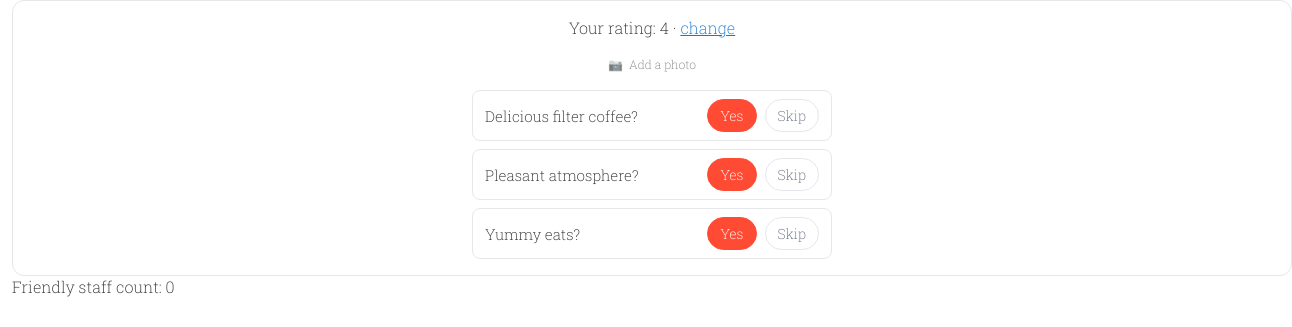
Test case: RateBlock › marks a Characteristic in "Your marks" from the zero baseline when characteristicCounts starts null
Click the button "Yes" next to "Yummy eats?" at (732, 234), box [707,217,756,250]
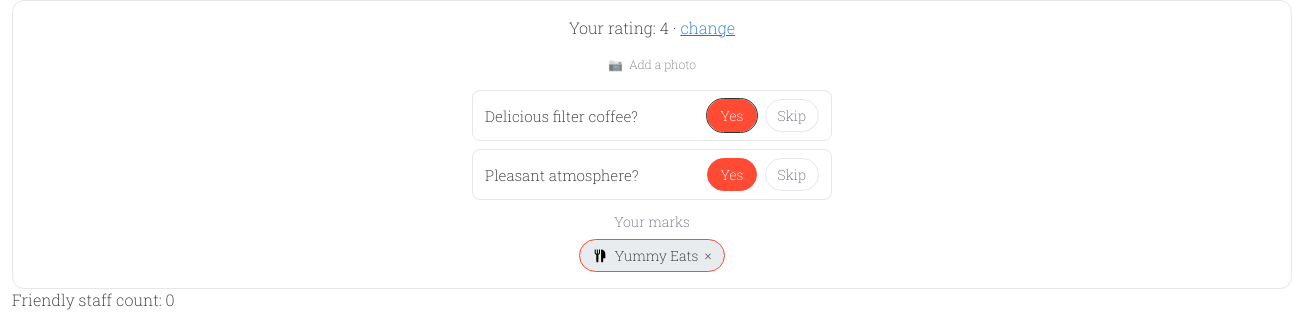
Result: the button with aria-label "Remove Yummy Eats" is shown at [579,239,725,272]
